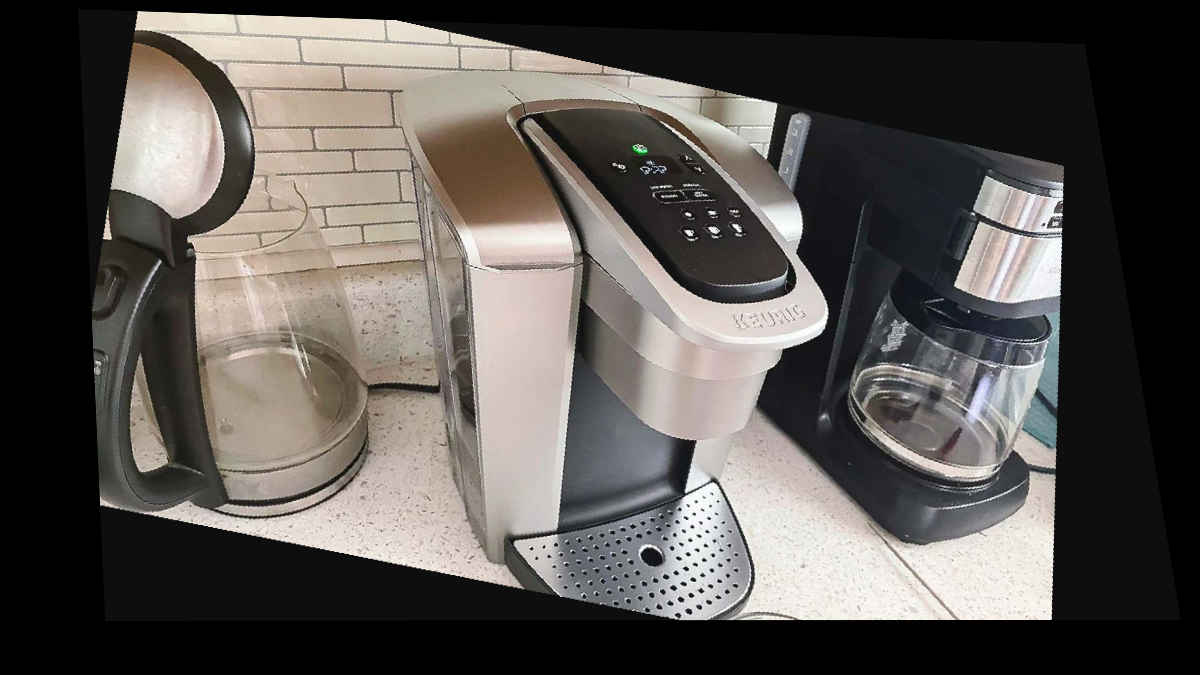10oz: (701, 223, 725, 241)
12oz: (726, 221, 749, 239)
4oz: (679, 208, 698, 221)
6oz: (702, 206, 722, 219)
8oz: (678, 226, 700, 242)
add_water: (648, 176, 680, 192)
descale: (681, 175, 706, 189)
hot: (686, 186, 718, 203)
iced: (726, 205, 745, 218)
power: (631, 142, 650, 156)
strong: (653, 188, 685, 205)
